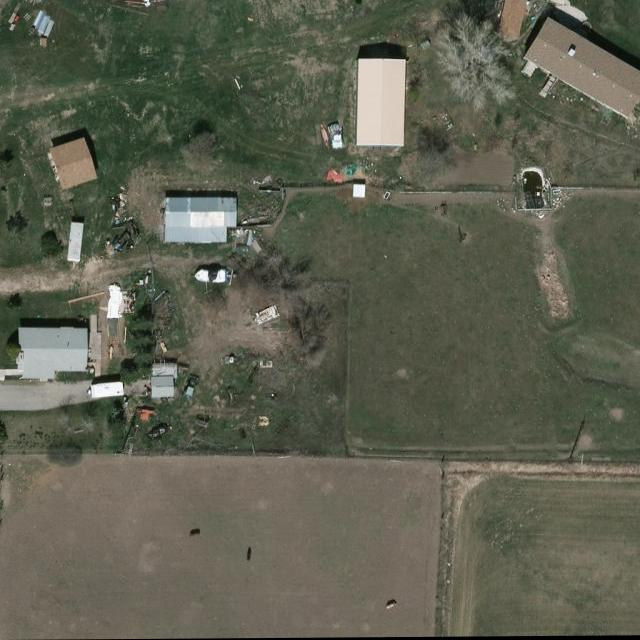vehicle: (327, 125, 347, 152)
